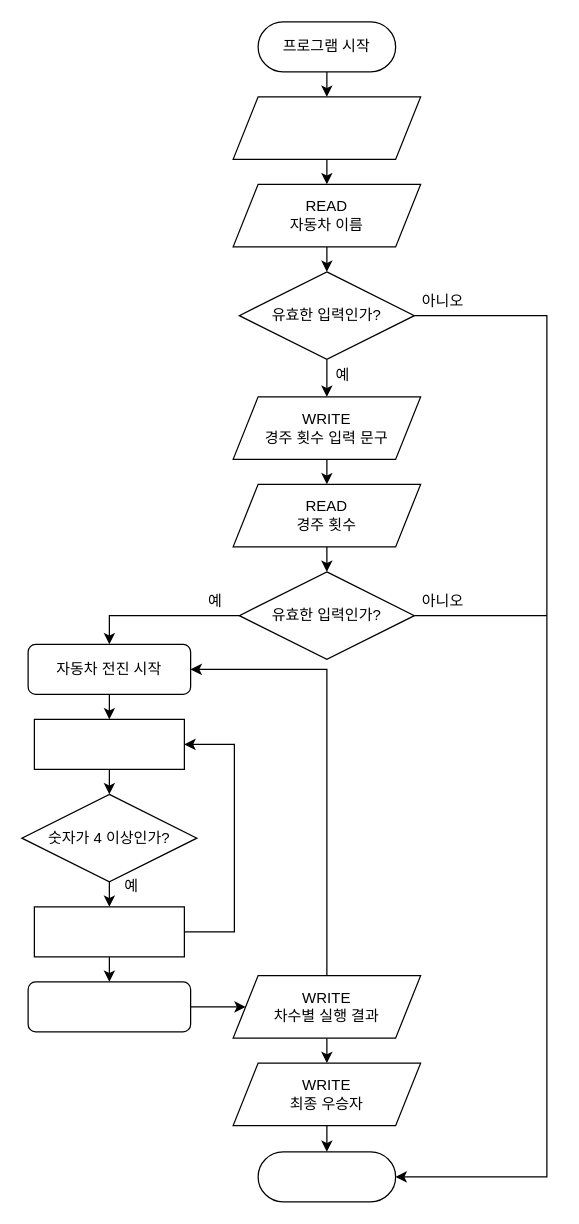
Image size: 579x1224. Some labels were removed from this diagram. Here are the shapes that lost their labels. From the top down, the centre of each, then its label:
pixel 326 127: WRITE 자동차 이름 입력 문구
pixel 108 743: 랜덤 숫자 생성
pixel 108 931: 자동차 전진
pixel 109 1006: 자동차 전진 종료
pixel 326 1176: 프로그램 종료
